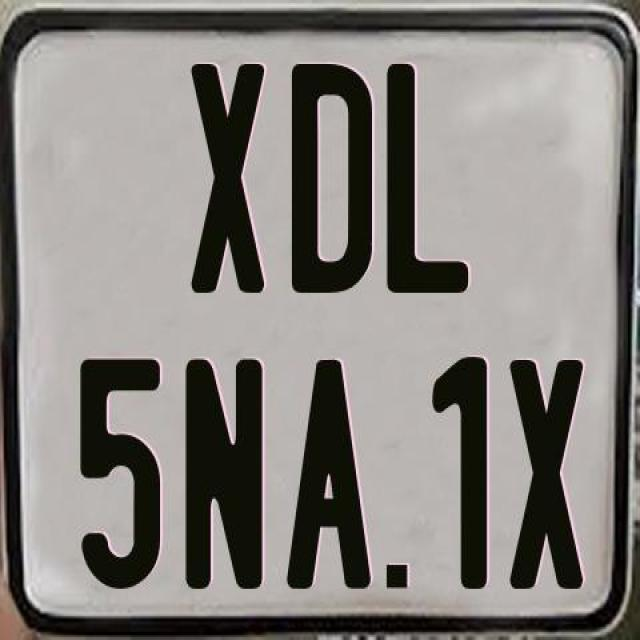1: (428, 354, 483, 594)
5: (78, 354, 166, 590)
A: (286, 357, 376, 596)
D: (292, 61, 379, 300)
L: (386, 62, 474, 296)
N: (184, 358, 263, 592)
X: (190, 59, 270, 290), (505, 358, 580, 592)
